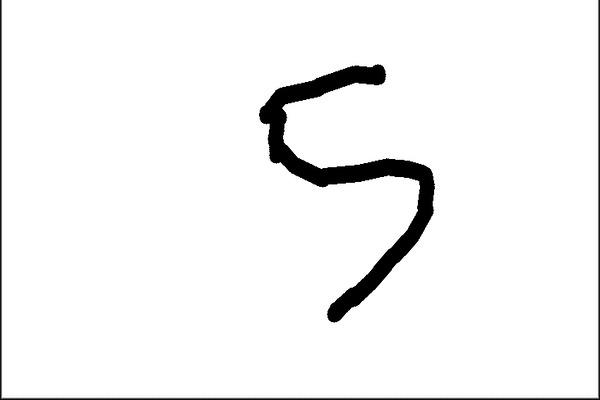S: (253, 58, 441, 326)
